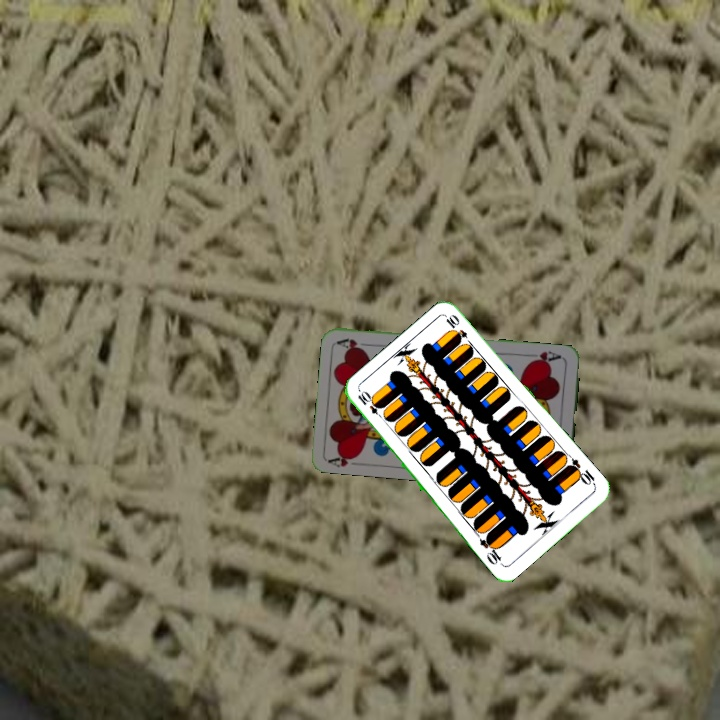E10: (564, 455, 598, 489), (354, 387, 387, 422)
HA: (325, 449, 366, 470), (527, 347, 563, 366)
